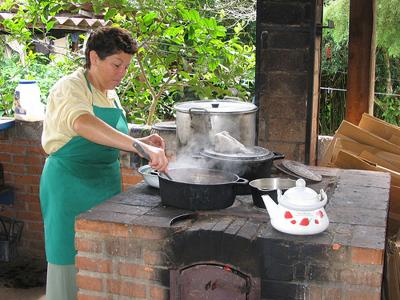person: (41, 26, 168, 297)
